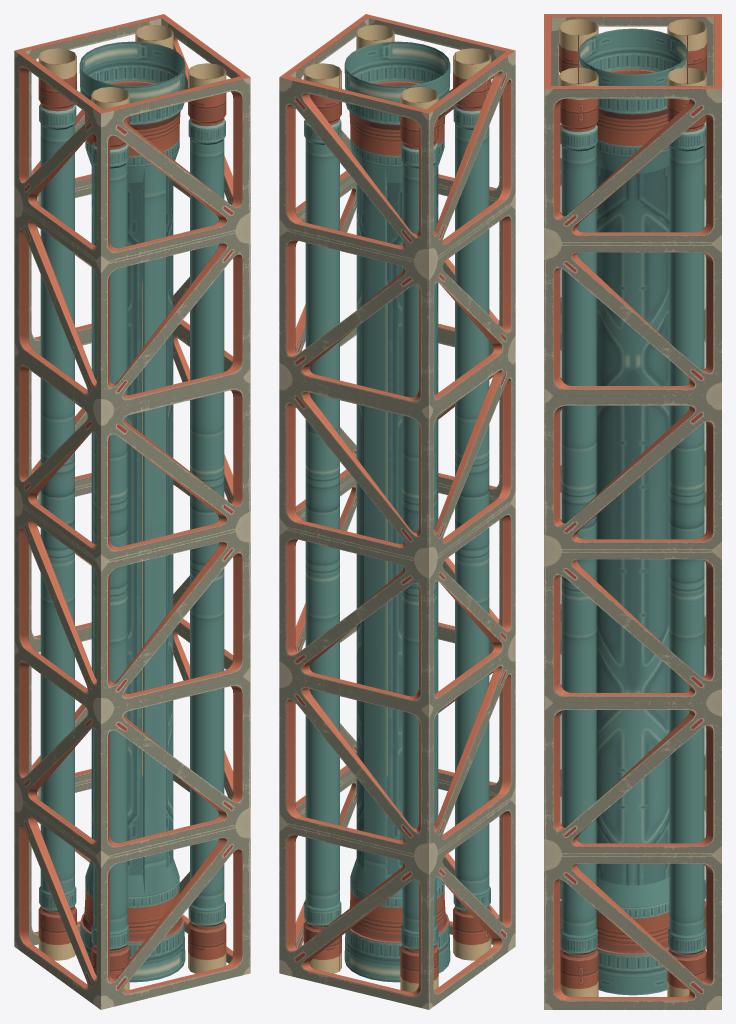
The model's file is HoistColumn.gltf.
3 views of the same model, side by side, from view 1: azimuth 30°, elevation 25°; view 2: azimuth 150°, elevation 25°; view 3: azimuth 270°, elevation 25° (orthographic). The views are drawn at different scales.
Visible parts, largest first — view 1: Column_Pipes; view 2: Column_Pipes; view 3: Column_Pipes.
Boxes of the visible parts, left/top/right/bottom form: Column_Pipes: left=14, top=14, right=250, bottom=1009; Column_Pipes: left=279, top=14, right=515, bottom=1009; Column_Pipes: left=544, top=14, right=721, bottom=1009.
Size of the model in its own units: 0.8746 by 5 by 0.8746.
Materials: 3 (3 with a texture image).
